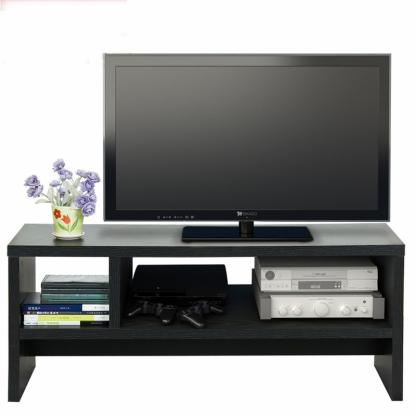TV stand: (6, 218, 404, 404)
